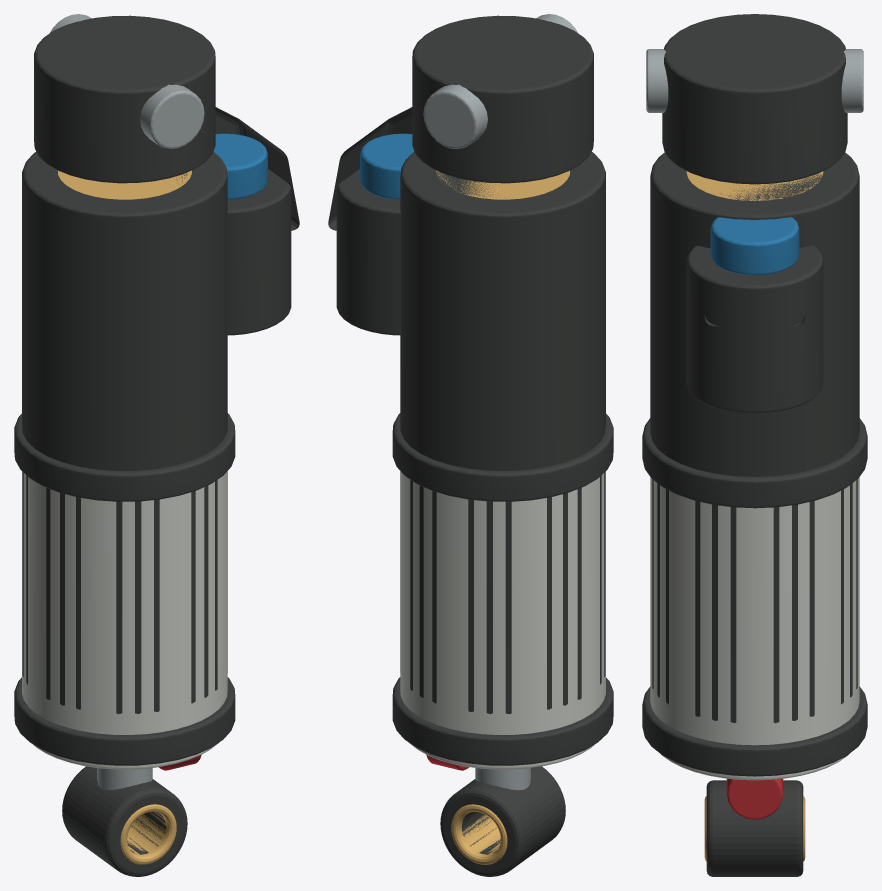
File: fox-float-x2-factory-my26--243ac434.glb
The picture shows the model from 3 angles, left to right: view 1: azimuth 30°, elevation 25°; view 2: azimuth 150°, elevation 25°; view 3: azimuth 270°, elevation 25°; orthographic projection.
Parts seen in each view (by area): view 1: fox-float-x2-factory-my26--243ac434__link, fox-float-x2-factory-my26--243ac434__frame, fox-float-x2-factory-my26--243ac434__stanchions, fox-float-x2-factory-my26--243ac434__bolts, fox-float-x2-factory-my26--243ac434__adjuster; view 2: fox-float-x2-factory-my26--243ac434__link, fox-float-x2-factory-my26--243ac434__frame, fox-float-x2-factory-my26--243ac434__bolts, fox-float-x2-factory-my26--243ac434__stanchions, fox-float-x2-factory-my26--243ac434__adjuster; view 3: fox-float-x2-factory-my26--243ac434__link, fox-float-x2-factory-my26--243ac434__frame, fox-float-x2-factory-my26--243ac434__adjuster, fox-float-x2-factory-my26--243ac434__bolts, fox-float-x2-factory-my26--243ac434__stanchions, fox-float-x2-factory-my26--243ac434__rebound.
Part boxes in pixels (x1,y1,x2,y2): fox-float-x2-factory-my26--243ac434__link: (14, 15, 299, 876); fox-float-x2-factory-my26--243ac434__frame: (22, 471, 227, 769); fox-float-x2-factory-my26--243ac434__stanchions: (57, 170, 191, 864); fox-float-x2-factory-my26--243ac434__bolts: (49, 14, 204, 790); fox-float-x2-factory-my26--243ac434__adjuster: (213, 133, 267, 199); fox-float-x2-factory-my26--243ac434__link: (328, 15, 613, 876); fox-float-x2-factory-my26--243ac434__frame: (400, 471, 605, 769); fox-float-x2-factory-my26--243ac434__bolts: (423, 14, 578, 790); fox-float-x2-factory-my26--243ac434__stanchions: (436, 170, 570, 864); fox-float-x2-factory-my26--243ac434__adjuster: (360, 133, 414, 199); fox-float-x2-factory-my26--243ac434__link: (642, 14, 867, 876); fox-float-x2-factory-my26--243ac434__frame: (650, 477, 859, 780); fox-float-x2-factory-my26--243ac434__adjuster: (710, 217, 799, 275); fox-float-x2-factory-my26--243ac434__bolts: (646, 49, 863, 780); fox-float-x2-factory-my26--243ac434__stanchions: (686, 171, 823, 861); fox-float-x2-factory-my26--243ac434__rebound: (726, 778, 783, 819).
Bounding box in the file's own units: 0.074 × 0.225 × 0.056.
